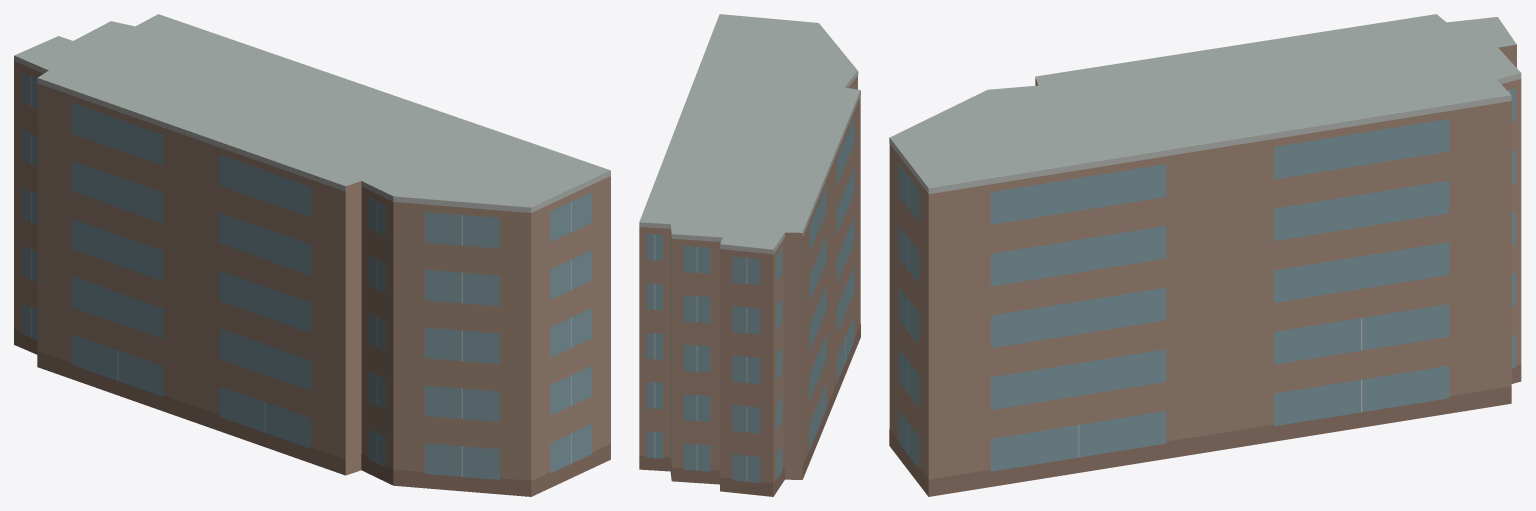
Rendered from survey-upis-32989001.glb.
The picture shows the model from 3 angles, left to right: view 1: azimuth 30°, elevation 25°; view 2: azimuth 150°, elevation 25°; view 3: azimuth 270°, elevation 25°; orthographic projection. The views are drawn at different scales.
Parts seen in each view (by area): view 1: survey-upis-32989001.tmp; view 2: survey-upis-32989001.tmp; view 3: survey-upis-32989001.tmp.
Part boxes in pixels (box(x1,y1,x2,y2)): survey-upis-32989001.tmp: box(14, 14, 610, 496); survey-upis-32989001.tmp: box(639, 14, 860, 496); survey-upis-32989001.tmp: box(889, 14, 1521, 496).
Size of the model in its own units: 15.68 by 12.92 by 23.99.
